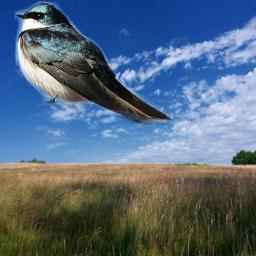Swallow: (14, 1, 173, 125)
